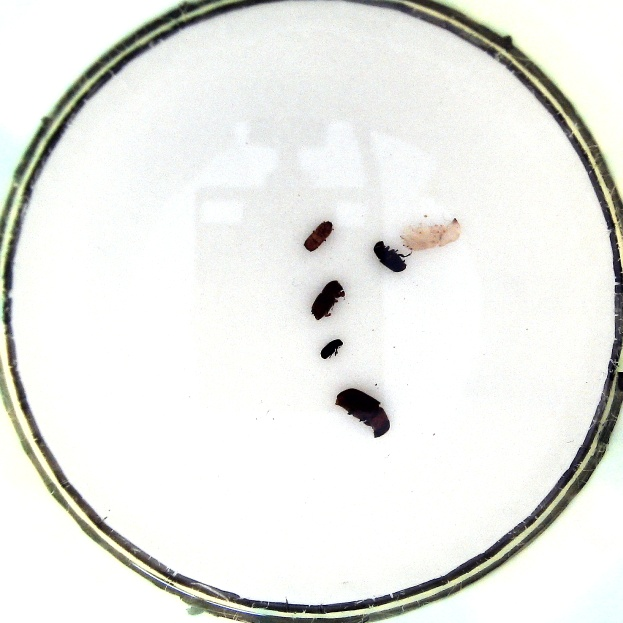acuminatus: (303, 217, 334, 255)
armandi: (373, 238, 412, 273)
boerner: (401, 216, 460, 250)
coleoptera: (318, 338, 343, 365)
leconte: (336, 387, 390, 440)
linnaeus: (309, 280, 346, 320)
